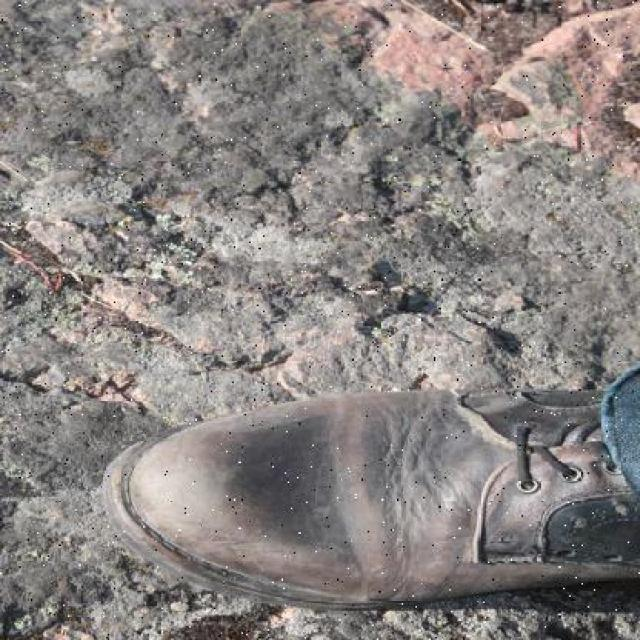shoes: (112, 382, 638, 600)
